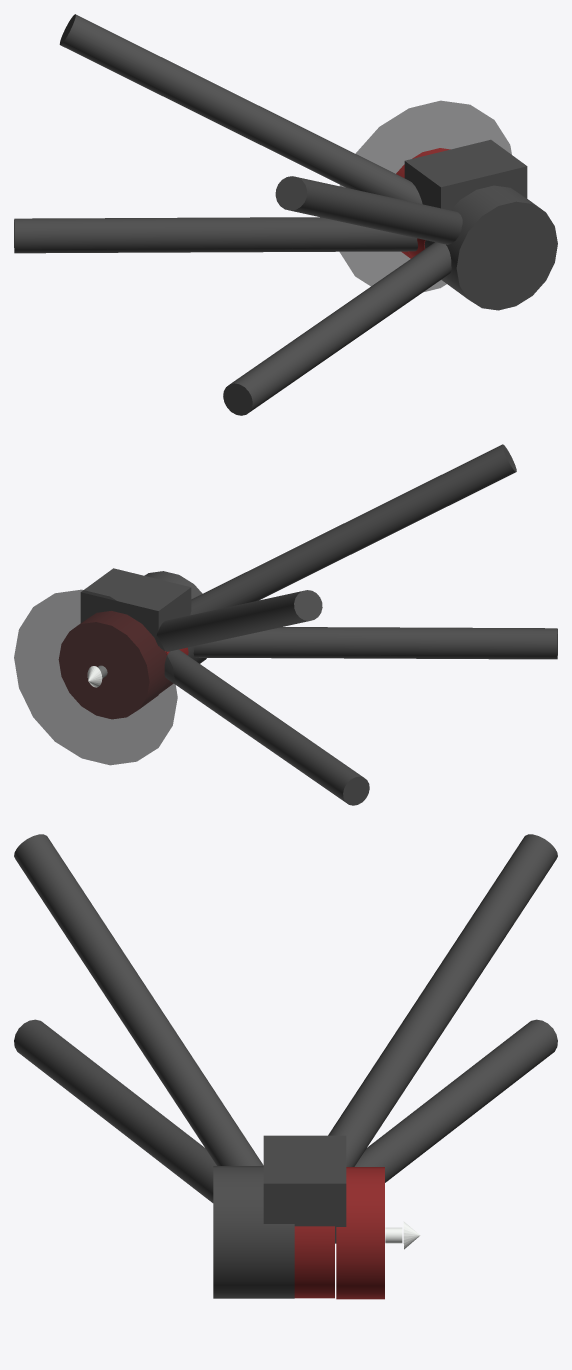
The model's file is debrisz1.fbx.
3 renders of one model, top to bottom at view 1: azimuth 30°, elevation 25°; view 2: azimuth 150°, elevation 25°; view 3: azimuth 270°, elevation 25°, orthographic. The views are drawn at different scales.
Parts seen in each view (by area): view 1: Cylinder07, Cylinder05, Cylinder16, Cylinder08, Cylinder18, Cylinder04, Box07; view 2: Cylinder18, Cylinder08, Cylinder04, Cylinder14, Cylinder07, Cylinder05, Box07, Cylinder16; view 3: Cylinder04, Cylinder05, Cylinder08, Cylinder16, Cylinder07, Box07, Cylinder14, Cylinder15.
Part boxes in pixels (left/top/right/bottom): Cylinder07: left=14, top=217, right=417, bottom=253; Cylinder05: left=59, top=14, right=422, bottom=204; Cylinder16: left=424, top=185, right=557, bottom=310; Cylinder08: left=223, top=242, right=451, bottom=415; Cylinder18: left=340, top=100, right=511, bottom=291; Cylinder04: left=275, top=176, right=462, bottom=244; Box07: left=404, top=139, right=527, bottom=210; Cylinder18: left=14, top=589, right=177, bottom=765; Cylinder08: left=193, top=627, right=557, bottom=659; Cylinder04: left=190, top=444, right=516, bottom=615; Cylinder14: left=59, top=611, right=166, bottom=718; Cylinder07: left=164, top=649, right=369, bottom=805; Cylinder05: left=156, top=590, right=322, bottom=651; Box07: left=81, top=568, right=191, bottom=645; Cylinder16: left=144, top=571, right=206, bottom=663; Cylinder04: left=14, top=834, right=263, bottom=1165; Cylinder05: left=328, top=834, right=557, bottom=1166; Cylinder08: left=14, top=1019, right=216, bottom=1202; Cylinder16: left=213, top=1166, right=294, bottom=1298; Cylinder07: left=354, top=1019, right=557, bottom=1182; Box07: left=263, top=1135, right=346, bottom=1243; Cylinder14: left=336, top=1167, right=384, bottom=1299; Cylinder15: left=294, top=1226, right=334, bottom=1298.
Bounding box in the file's own units: 1069 × 693 × 987.
